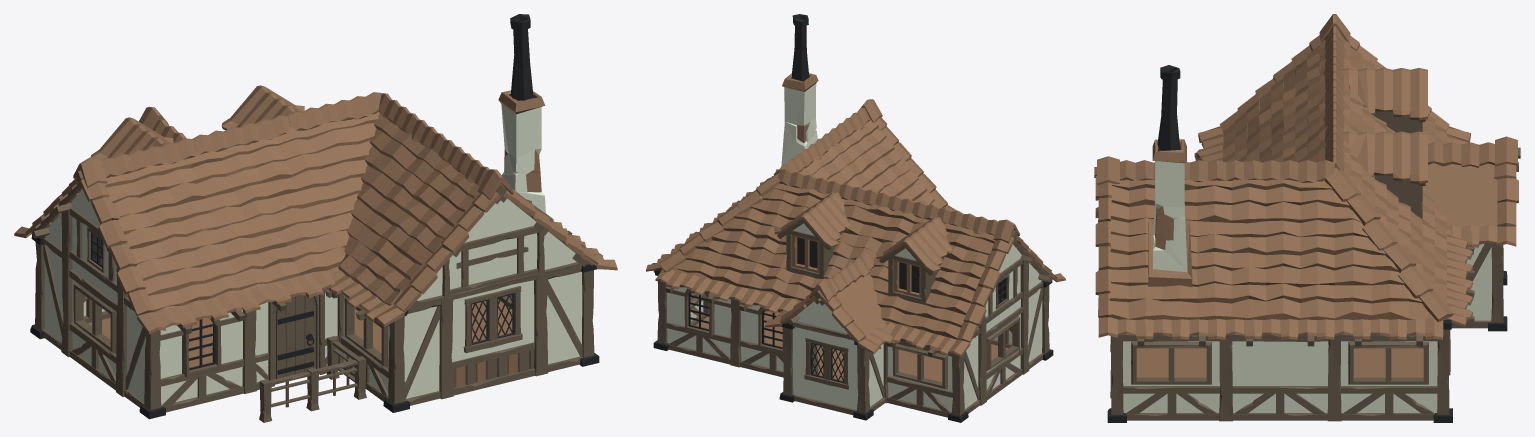
Rendered from house_02.fbx.
3 renders of one model, left to right at view 1: azimuth 30°, elevation 25°; view 2: azimuth 150°, elevation 25°; view 3: azimuth 270°, elevation 25°, orthographic. The views are drawn at different scales.
Parts seen in each view (by area): view 1: medieval house2; view 2: medieval house2; view 3: medieval house2.
Part boxes in pixels (x1,y1,x2,y2): medieval house2: (14,14,617,422); medieval house2: (646,14,1065,422); medieval house2: (1094,14,1520,422).
Bounding box in the file's own units: 1125 × 843 × 981.
